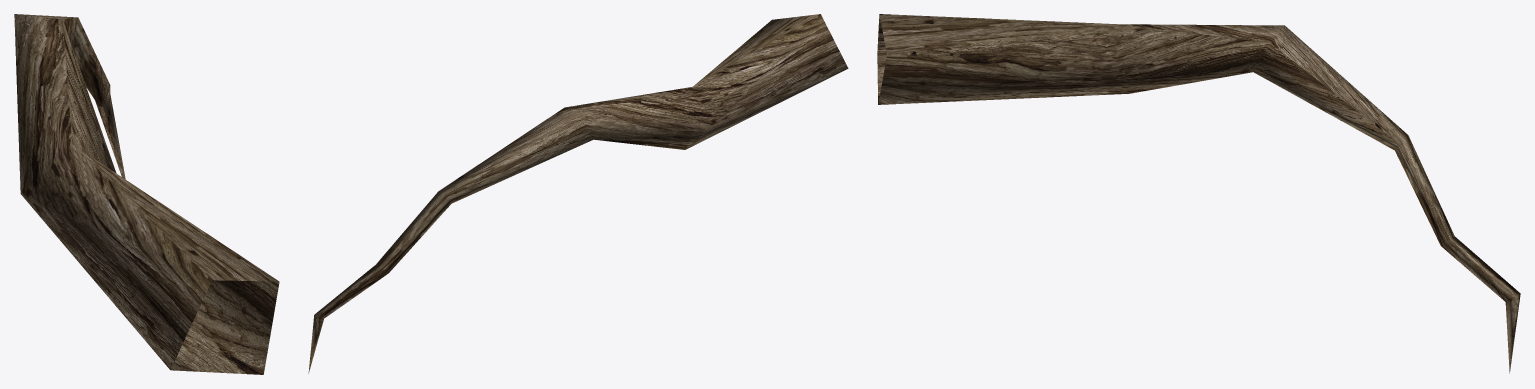
The model's file is MEP_DTree_03_p_b.fbx.
The picture shows the model from 3 angles, left to right: view 1: azimuth 30°, elevation 25°; view 2: azimuth 150°, elevation 25°; view 3: azimuth 270°, elevation 25°; orthographic projection. The views are drawn at different scales.
Parts seen in each view (by area): view 1: MEP_DTree_03_b; view 2: MEP_DTree_03_b; view 3: MEP_DTree_03_b.
Boxes of the visible parts, x1,y1,x2,y2 form: MEP_DTree_03_b: (14, 14, 279, 374); MEP_DTree_03_b: (308, 14, 848, 373); MEP_DTree_03_b: (877, 14, 1520, 373).
Bounding box in the file's own units: 2.49 × 2.12 × 4.83.
